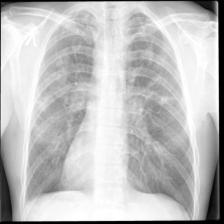tuberculosis: (16, 1, 198, 223)
